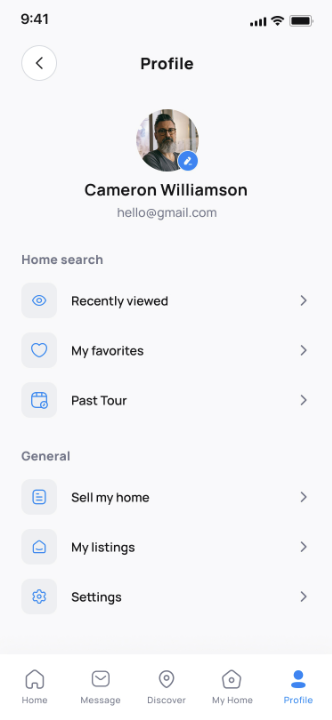AppBar: (1, 26, 332, 83)
BottomBar: (1, 652, 332, 720)
IconButton: (18, 44, 59, 81)
